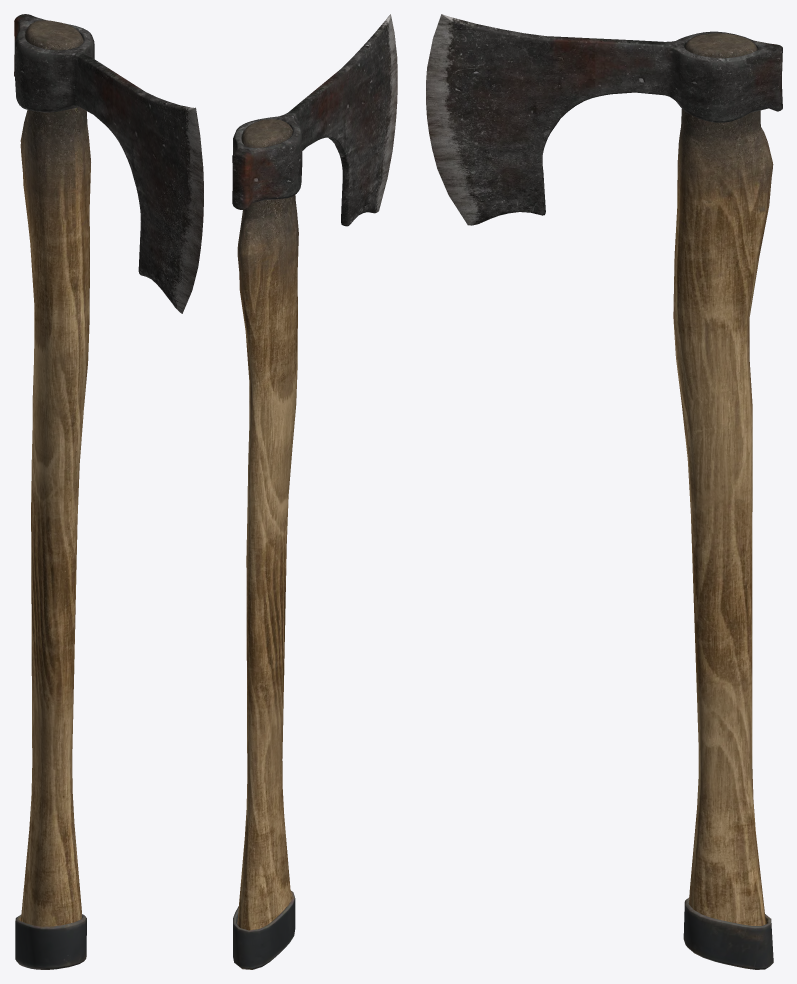
File: wooden_axe.glb
3 renders of one model, left to right at view 1: azimuth 30°, elevation 25°; view 2: azimuth 150°, elevation 25°; view 3: azimuth 270°, elevation 25°, orthographic. The views are drawn at different scales.
Parts seen in each view (by area): view 1: wooden_axe; view 2: wooden_axe; view 3: wooden_axe.
Part boxes in pixels (left/top/right/bottom): wooden_axe: left=14, top=14, right=203, bottom=969; wooden_axe: left=232, top=14, right=397, bottom=969; wooden_axe: left=426, top=14, right=782, bottom=969.
Bounding box in the file's own units: 0.0472 × 0.6303 × 0.2143.
1 material, 1 textured.
